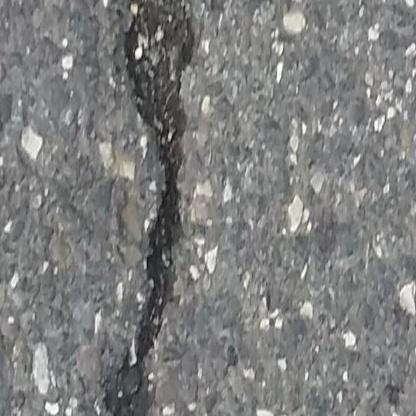Cracks: (94, 0, 193, 416)
